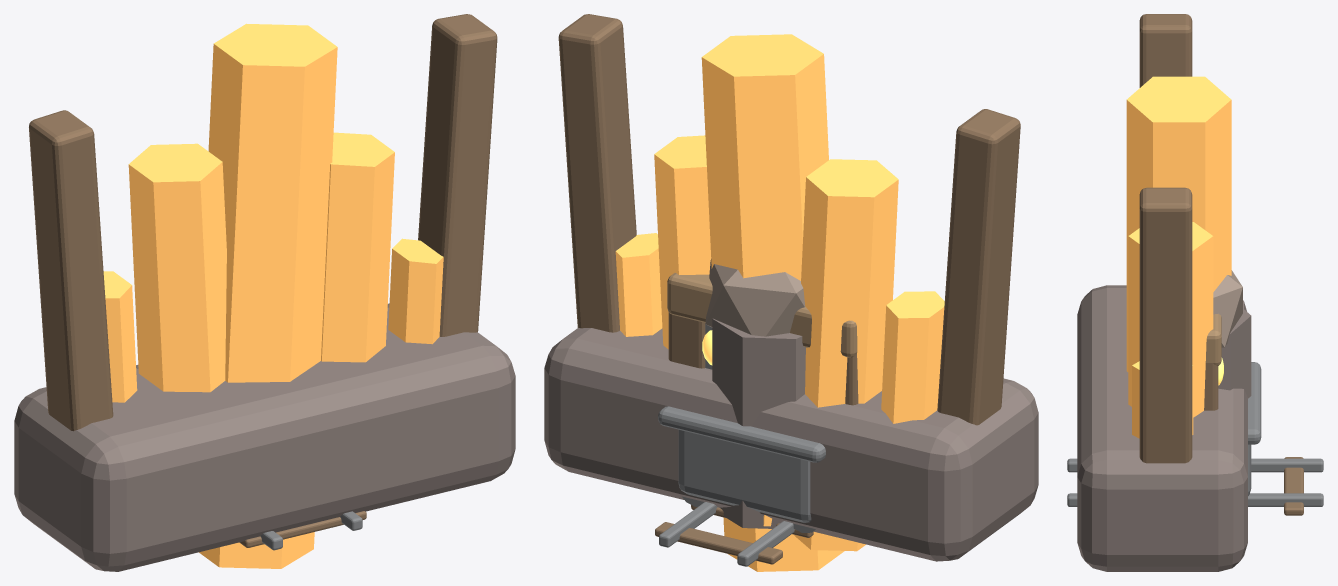
Rendered from amber-mine-kit.glb.
3 renders of one model, left to right at view 1: azimuth 30°, elevation 25°; view 2: azimuth 150°, elevation 25°; view 3: azimuth 270°, elevation 25°, orthographic. The views are drawn at different scales.
Parts seen in each view (by area): view 1: VeinRockBase, Vein_2_Crystal, Vein_1_Crystal, VeinTimber_-1.18, VeinTimber_1.18, Vein_3_Crystal, Vein_4_Crystal, Vein_0_Crystal, Tie_3; view 2: VeinRockBase, Vein_2_Crystal, Vein_1_Crystal, VeinTimber_-1.18, VeinTimber_1.18, CartBody, RockPillarBase, Vein_3_Crystal, Vein_0_Crystal, RockPillarTop, Vein_4_Crystal, CartLip (+5 smaller); view 3: VeinRockBase, Vein_2_Crystal, VeinTimber_1.18, Vein_3_Crystal, VeinTimber_-1.18, RockPillarBase, RockPillarTop, Rail_-0.25, Rail_0.25, CartLip, Tie_0, Vein_4_Crystal (+2 smaller).
Boxes of the visible parts, bbox=[...] form: VeinRockBase: bbox=[14, 303, 515, 571]; Vein_2_Crystal: bbox=[199, 23, 337, 568]; Vein_1_Crystal: bbox=[128, 143, 226, 392]; VeinTimber_-1.18: bbox=[29, 110, 113, 431]; VeinTimber_1.18: bbox=[418, 14, 497, 336]; Vein_3_Crystal: bbox=[321, 132, 394, 362]; Vein_4_Crystal: bbox=[388, 238, 443, 344]; Vein_0_Crystal: bbox=[103, 271, 137, 402]; Tie_3: bbox=[239, 511, 366, 547]; VeinRockBase: bbox=[544, 328, 1038, 561]; Vein_2_Crystal: bbox=[701, 34, 844, 571]; Vein_1_Crystal: bbox=[794, 159, 898, 551]; VeinTimber_-1.18: bbox=[937, 109, 1020, 425]; VeinTimber_1.18: bbox=[558, 14, 636, 332]; CartBody: bbox=[678, 430, 811, 522]; RockPillarBase: bbox=[712, 318, 805, 528]; Vein_3_Crystal: bbox=[654, 135, 711, 349]; Vein_0_Crystal: bbox=[881, 291, 944, 423]; RockPillarTop: bbox=[705, 259, 805, 336]; Vein_4_Crystal: bbox=[615, 233, 662, 336]; CartLip: bbox=[658, 406, 825, 462]; VeinRockBase: bbox=[1077, 285, 1247, 571]; Vein_2_Crystal: bbox=[1126, 76, 1231, 371]; VeinTimber_1.18: bbox=[1139, 187, 1192, 463]; Vein_3_Crystal: bbox=[1128, 222, 1213, 417]; VeinTimber_-1.18: bbox=[1139, 14, 1192, 87]; RockPillarBase: bbox=[1218, 308, 1251, 398]; RockPillarTop: bbox=[1213, 270, 1242, 348]; Rail_-0.25: bbox=[1067, 458, 1323, 472]; Rail_0.25: bbox=[1067, 493, 1323, 506]; CartLip: bbox=[1248, 362, 1261, 444]; Tie_0: bbox=[1284, 457, 1303, 515]; Vein_4_Crystal: bbox=[1132, 361, 1193, 438].
Size of the model in its own units: 2.79 by 3.01 by 1.56.
